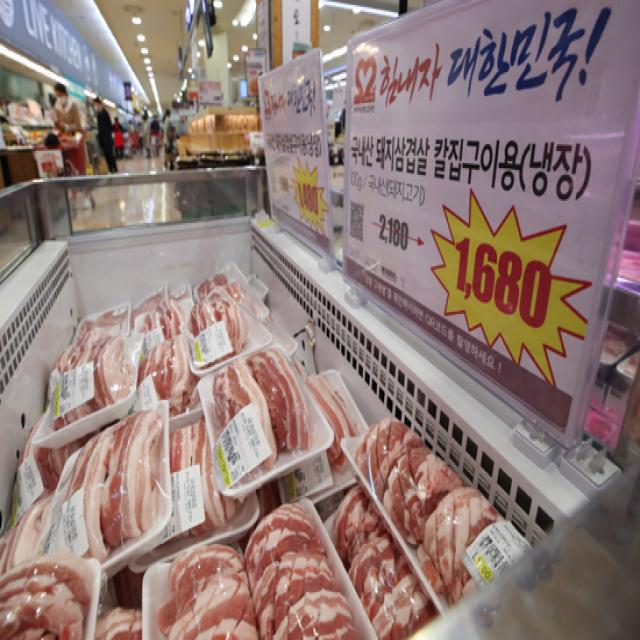pork: (29, 245, 489, 640)
